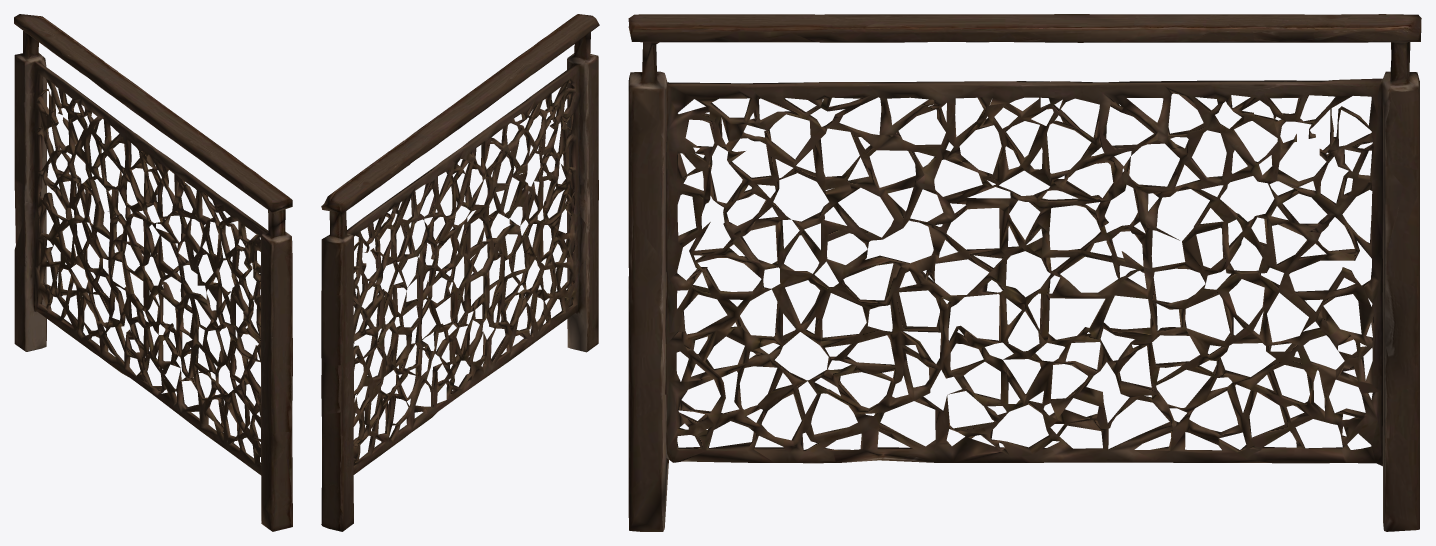
File: balcrail_lod1.glb
3 renders of one model, left to right at view 1: azimuth 30°, elevation 25°; view 2: azimuth 150°, elevation 25°; view 3: azimuth 270°, elevation 25°, orthographic. The views are drawn at different scales.
Visible parts, largest first — view 1: tripo_node_59b3634f-7aed-4abb-b65b-6a26f1630ae5; view 2: tripo_node_59b3634f-7aed-4abb-b65b-6a26f1630ae5; view 3: tripo_node_59b3634f-7aed-4abb-b65b-6a26f1630ae5.
Boxes of the visible parts, left/top/right/bottom form: tripo_node_59b3634f-7aed-4abb-b65b-6a26f1630ae5: left=14, top=14, right=292, bottom=531; tripo_node_59b3634f-7aed-4abb-b65b-6a26f1630ae5: left=321, top=14, right=599, bottom=531; tripo_node_59b3634f-7aed-4abb-b65b-6a26f1630ae5: left=628, top=14, right=1421, bottom=531.
Size of the model in its own units: 0.0721 by 0.9997 by 1.43.
1 material, 1 textured.
